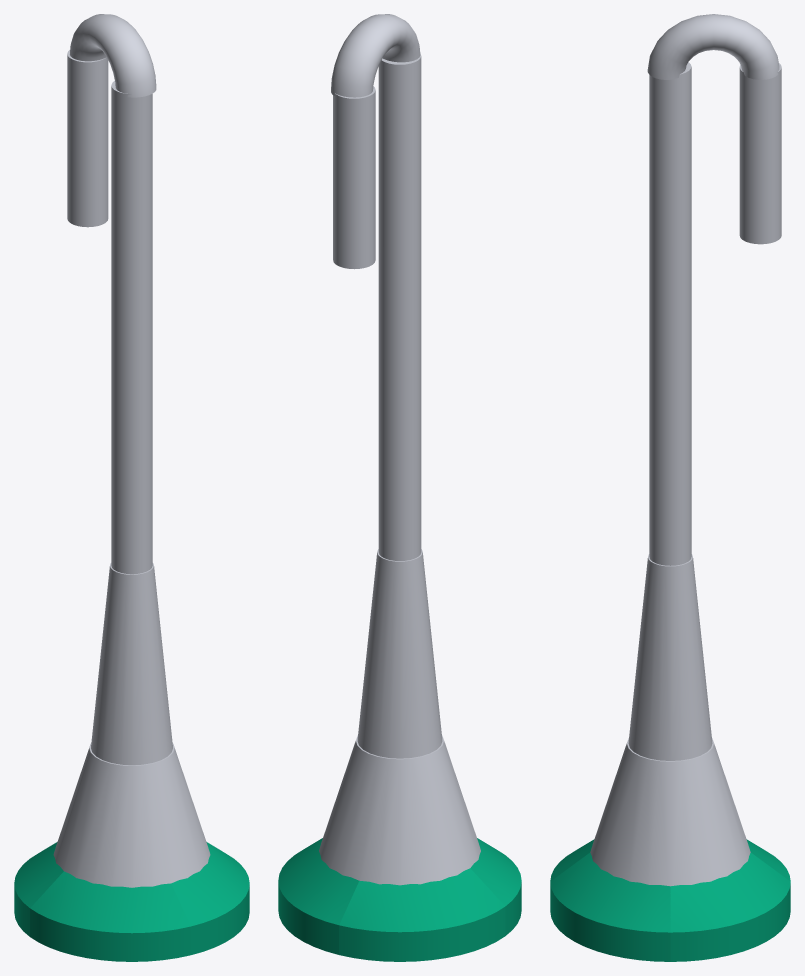
Rendered from corps trompette.fbx.
The picture shows the model from 3 angles, left to right: view 1: azimuth 30°, elevation 25°; view 2: azimuth 150°, elevation 25°; view 3: azimuth 270°, elevation 25°; orthographic projection. The views are drawn at different scales.
Parts seen in each view (by area): view 1: mergedBlocks; view 2: mergedBlocks; view 3: mergedBlocks.
Part boxes in pixels (x1,y1,x2,y2): mergedBlocks: (14, 14, 249, 961); mergedBlocks: (278, 14, 521, 961); mergedBlocks: (550, 14, 790, 961).
Bounding box in the file's own units: 20 × 82.2 × 20.
